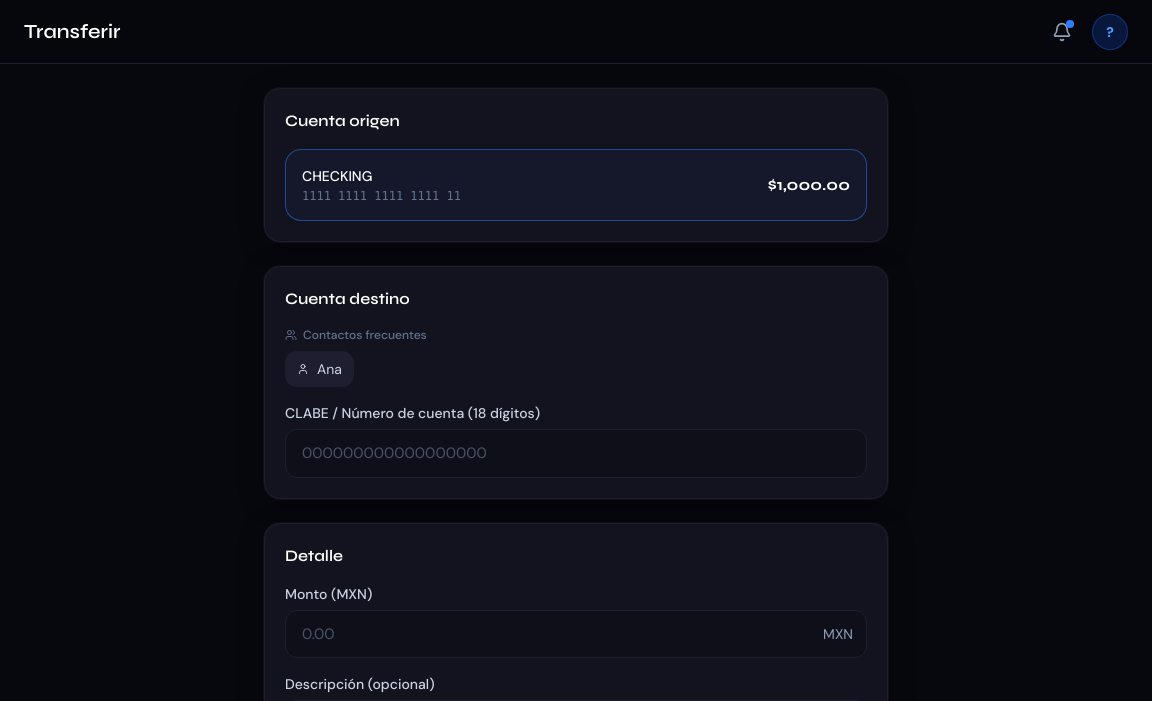
Scenario: TransferPage — confirm & success steps › Editar goes back to the form step without submitting
The image size is (1152, 701).
Expected: the text "CHECKING" is shown, [302,167,372,185]
Type "222222222222222222" into the field with placeholder "000000000000000000" at x=576, y=453, box [285,429,867,478]
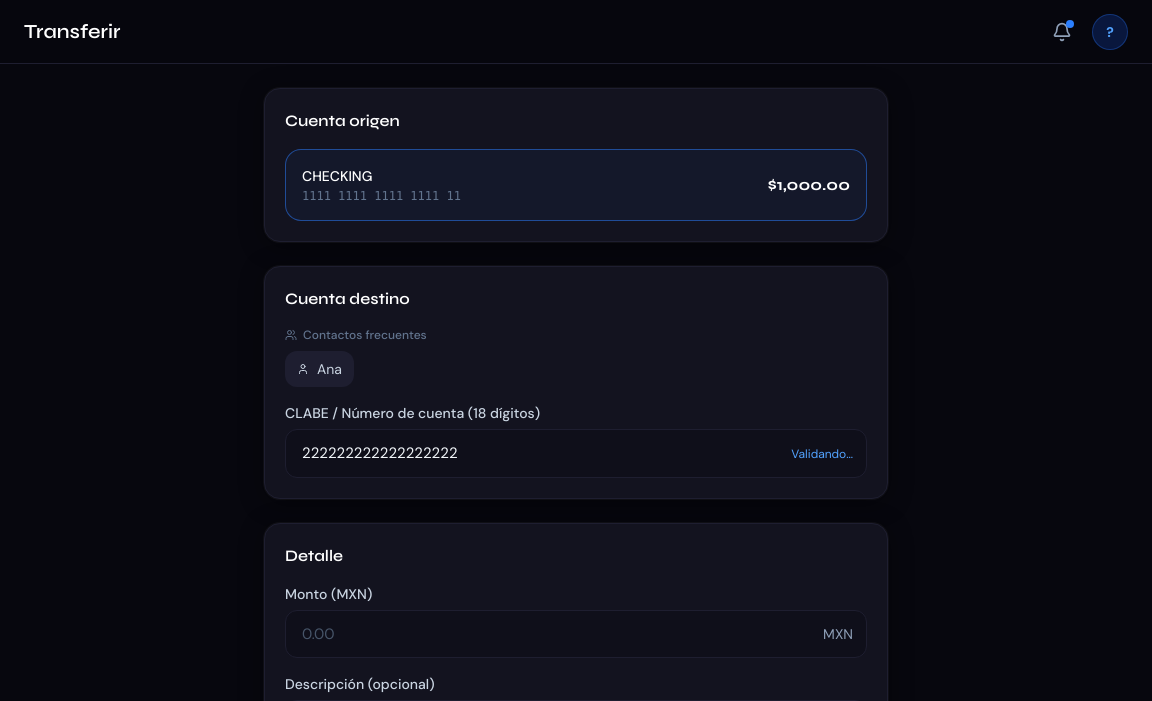
Type "150" into the number field with placeholder "0.00" at x=576, y=634, box [285,610,867,658]
(page scrolled)
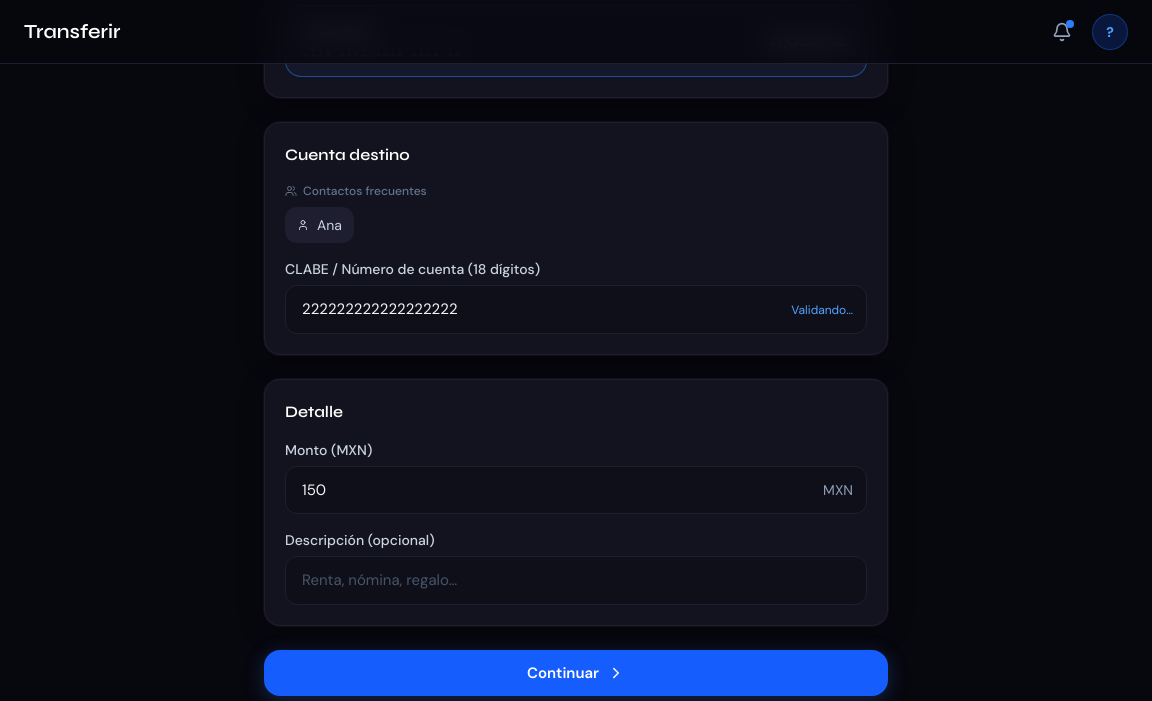
Type "Rent" into the field with placeholder "Renta, nómina, regalo…" at x=576, y=580, box [285,556,867,604]
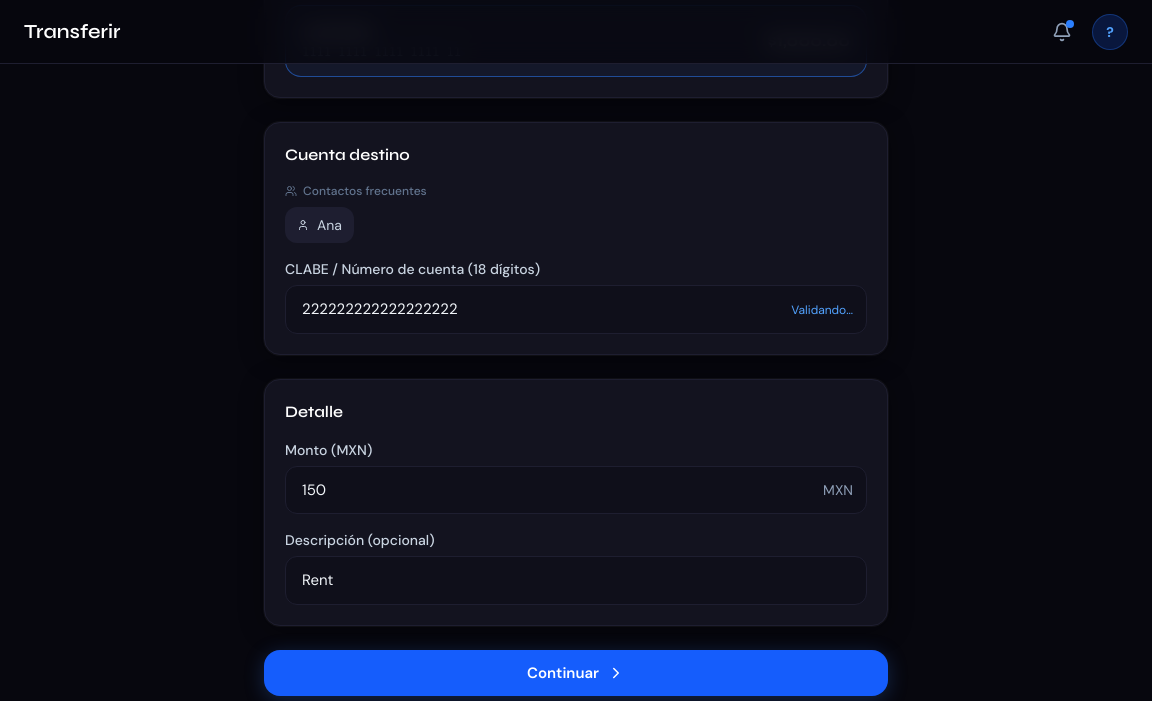
Click the button "Continuar" at x=576, y=673, box [264,650,888,696]
(page scrolled)
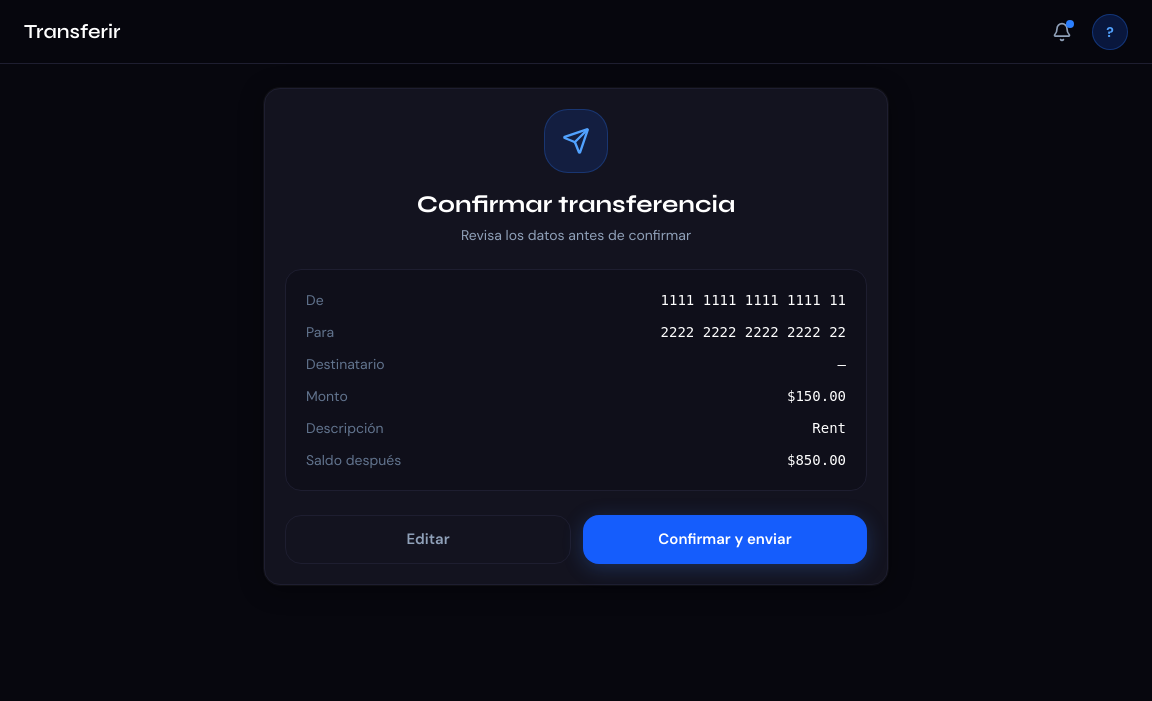
Click the button "Editar" at x=428, y=539, box [285,515,571,564]
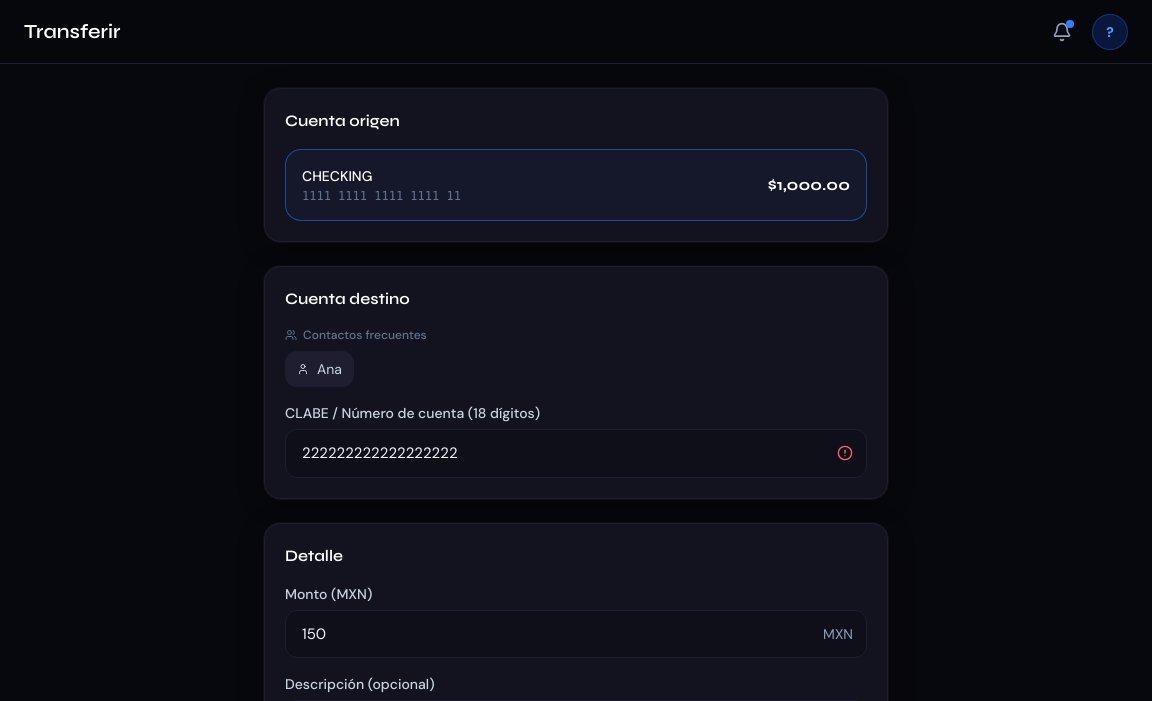
Now the heading "Cuenta origen" is shown, box [285,111,400,130]
